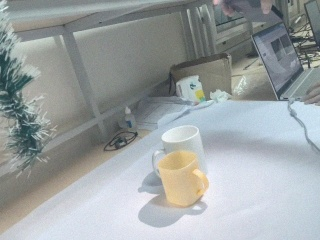box: (170, 53, 233, 106)
cup: (155, 149, 210, 209)
